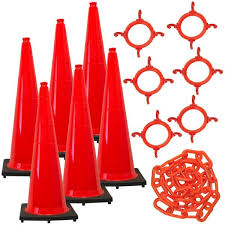cones: (20, 82, 78, 222), (62, 64, 115, 203), (96, 50, 147, 187), (78, 2, 112, 140), (9, 37, 41, 179), (49, 18, 76, 154)
